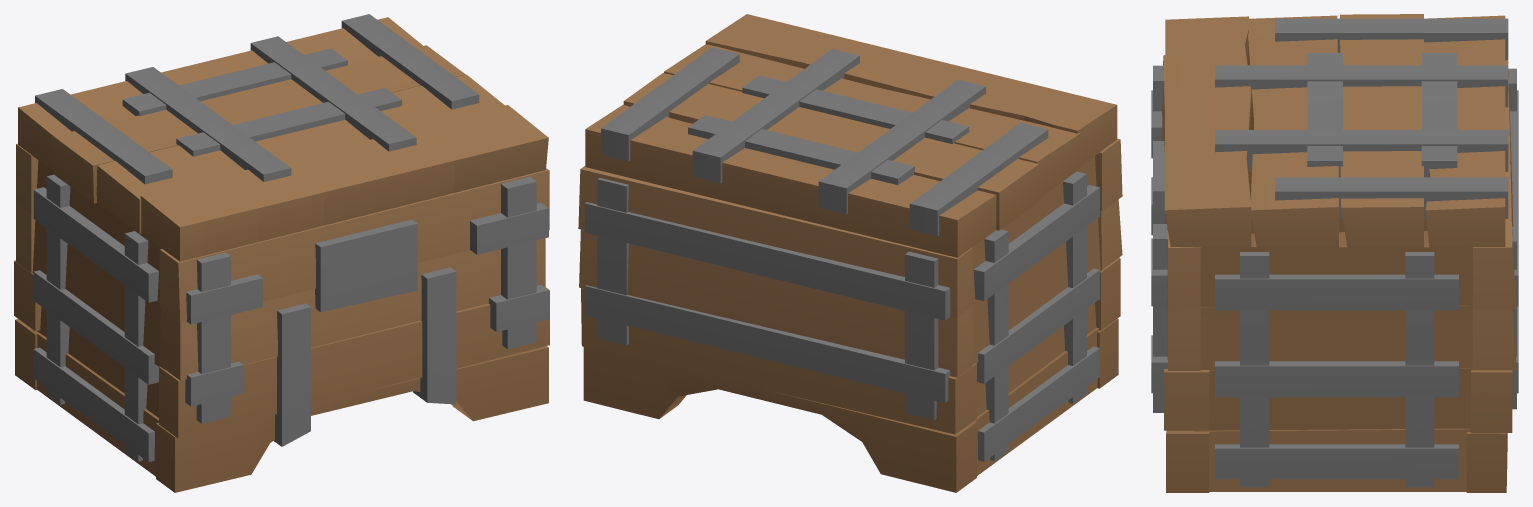
The model's file is Box_Wood_B.fbx.
The picture shows the model from 3 angles, left to right: view 1: azimuth 30°, elevation 25°; view 2: azimuth 150°, elevation 25°; view 3: azimuth 270°, elevation 25°; orthographic projection. The views are drawn at different scales.
Parts seen in each view (by area): view 1: Box_Wood_B; view 2: Box_Wood_B; view 3: Box_Wood_B.
Part boxes in pixels (left/top/right/bottom): Box_Wood_B: left=14, top=14, right=549, bottom=492; Box_Wood_B: left=578, top=14, right=1122, bottom=492; Box_Wood_B: left=1151, top=14, right=1518, bottom=492.
Size of the model in its own units: 63.07 by 43.57 by 49.68.
